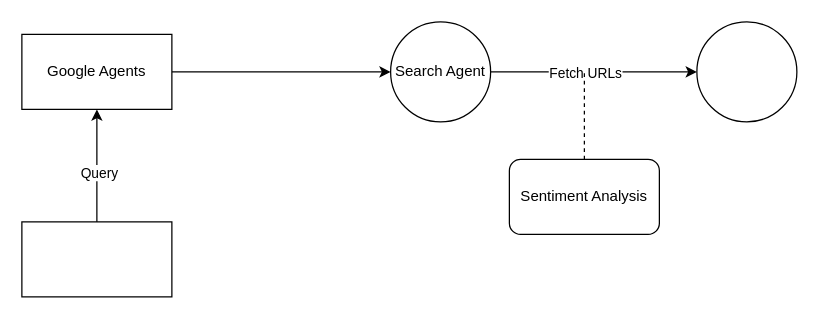
Some shapes in this 819 by 319 pixel diagram are drawn without their labels. Each missing label, with the centre of its shape:
"BACKEND" belongs at pixel 96 259.
"Summarizer Agent" belongs at pixel 746 71.
